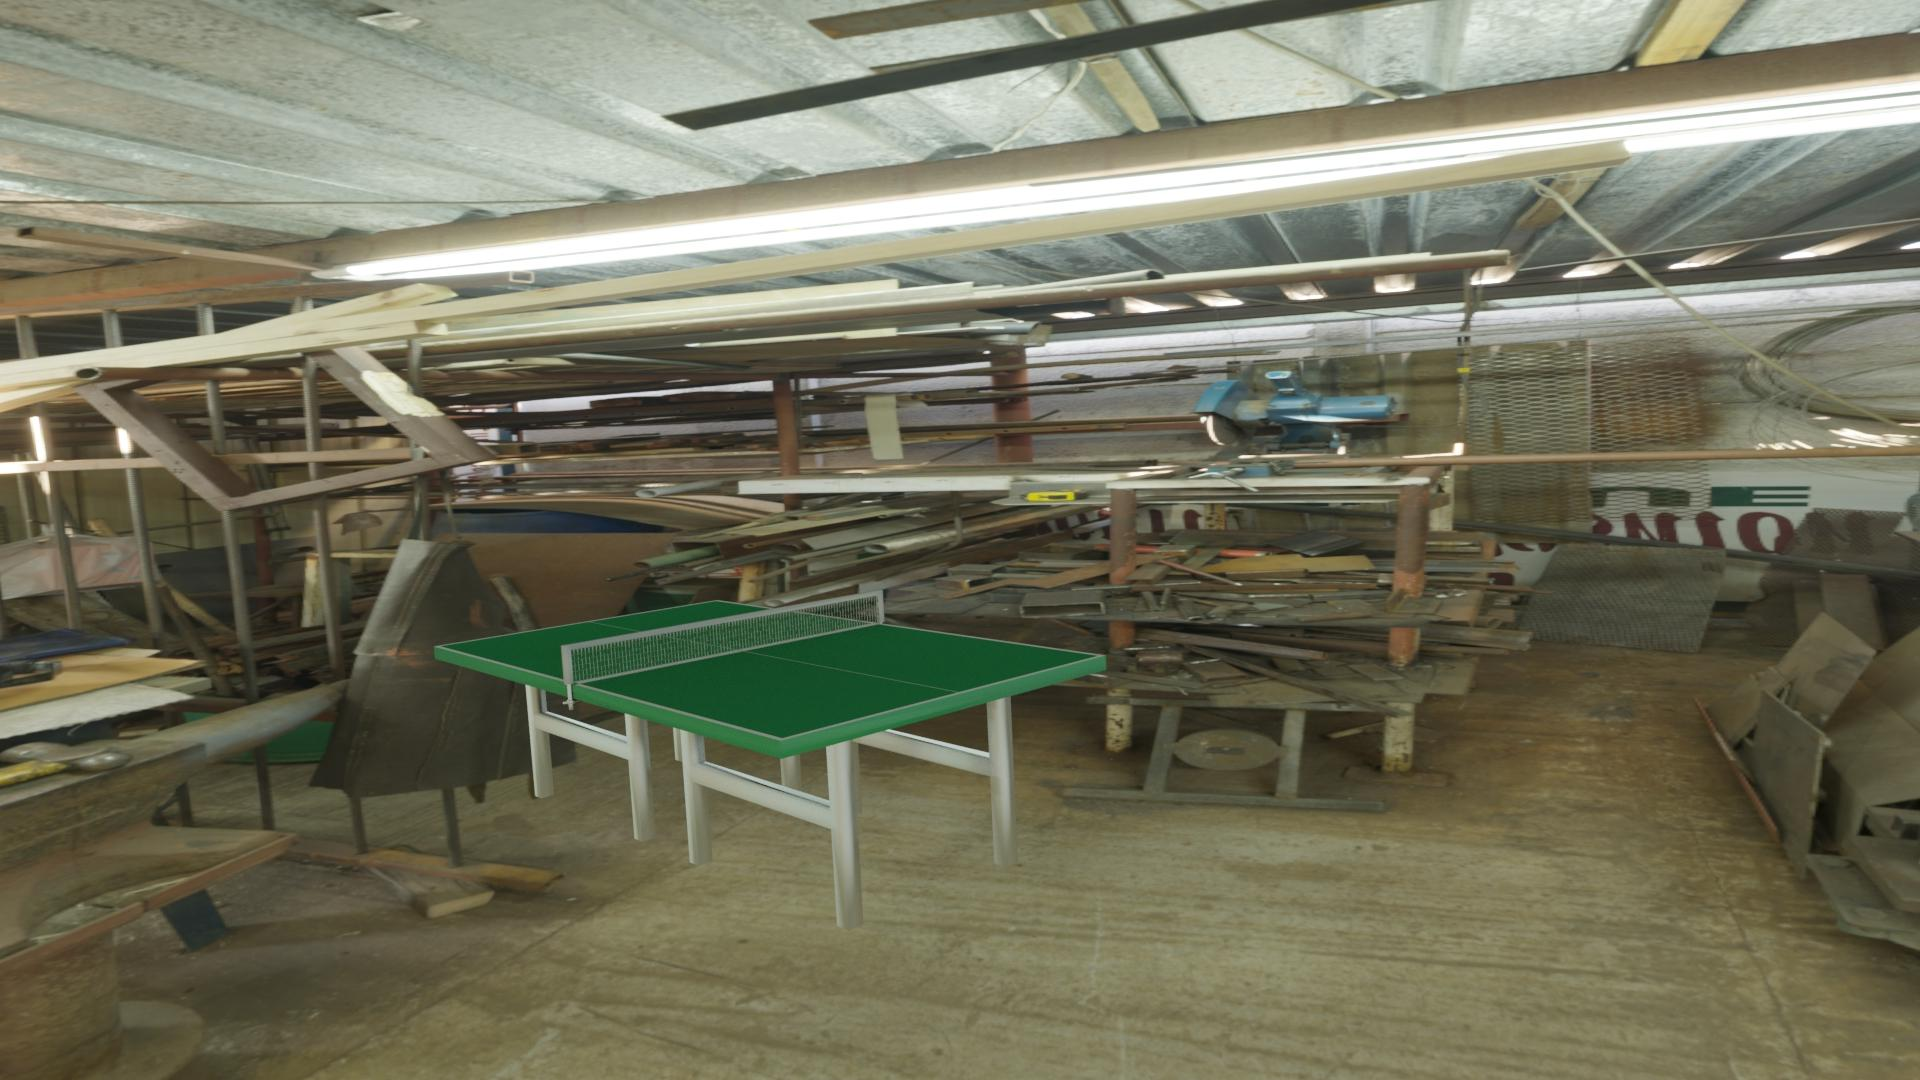table: (440, 601, 1098, 738)
